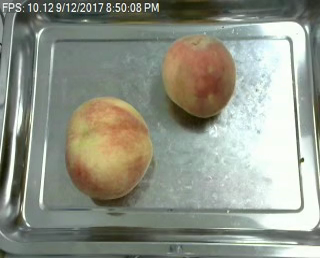Peach: (65, 95, 152, 201), (162, 32, 236, 118)
